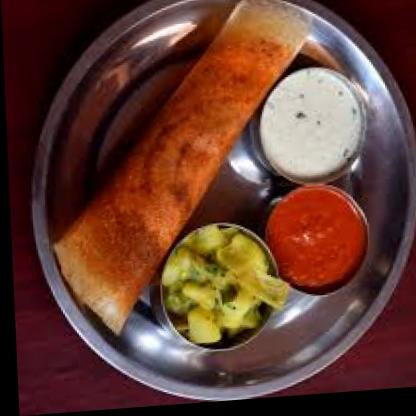dosa: (41, 0, 317, 339)
